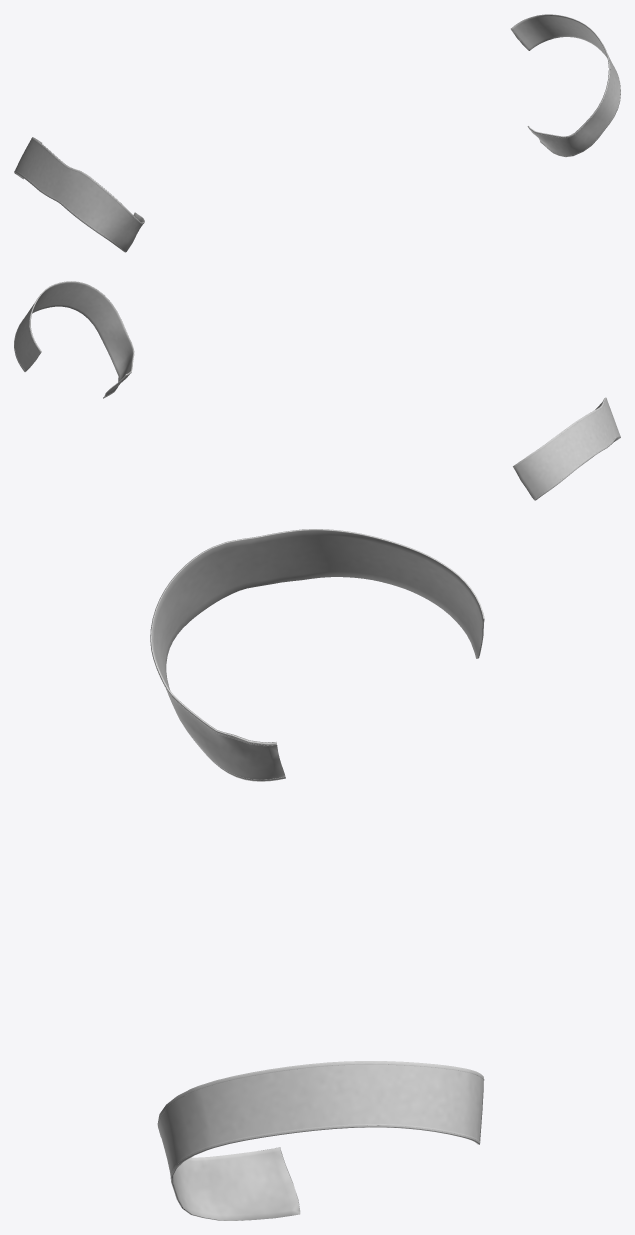
Rendered from Jac_COP_Hands_LIM.glb.
3 renders of one model, top to bottom at view 1: azimuth 30°, elevation 25°; view 2: azimuth 150°, elevation 25°; view 3: azimuth 270°, elevation 25°, orthographic. The views are drawn at different scales.
Parts seen in each view (by area): view 1: Jac_COP_Hands_LIM1, Rope1; view 2: Jac_COP_Hands_LIM1, Rope1; view 3: Jac_COP_Hands_LIM1, Rope1.
Part boxes in pixels (box(x1,y1,x2,y2)): Jac_COP_Hands_LIM1: box(14, 14, 620, 252); Rope1: box(14, 43, 620, 251); Jac_COP_Hands_LIM1: box(14, 281, 620, 500); Rope1: box(14, 294, 620, 499); Jac_COP_Hands_LIM1: box(150, 529, 484, 1220); Rope1: box(152, 613, 484, 1207).
Bounding box in the file's own units: 1.2 × 0.2202 × 0.3081.
Materials: 2 (2 with a texture image).
